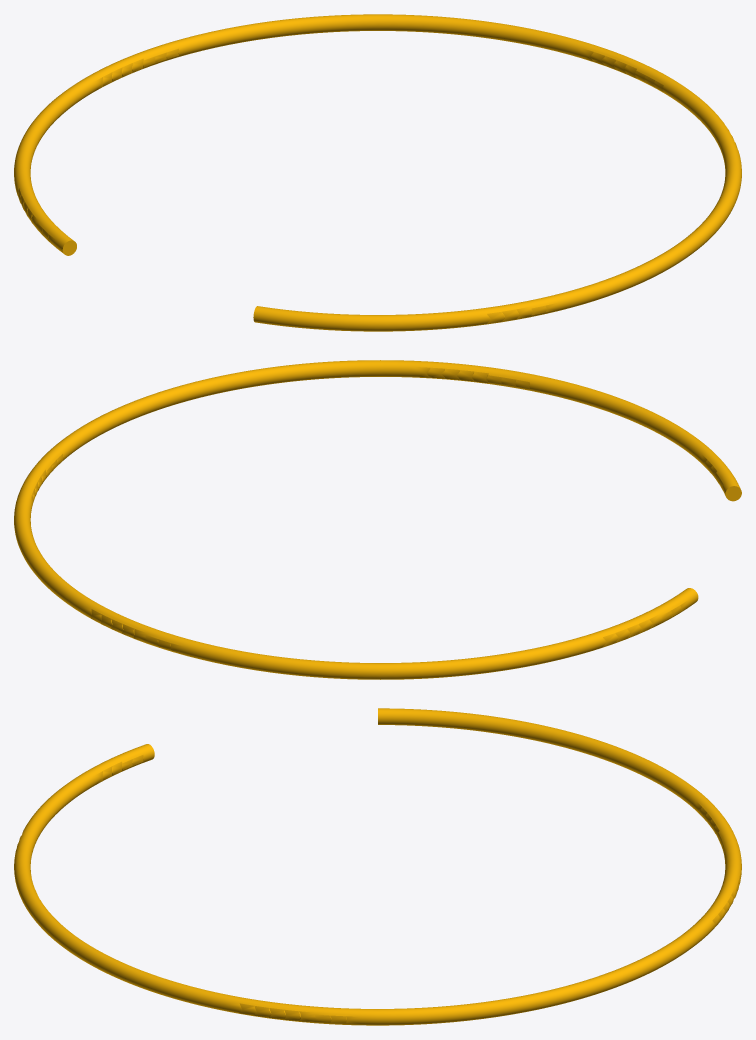
Rendered from Exc_Ball_Bearing_1611_0514_4008_2.obj.
3 renders of one model, top to bottom at view 1: azimuth 30°, elevation 25°; view 2: azimuth 150°, elevation 25°; view 3: azimuth 270°, elevation 25°, orthographic.
Visible parts, largest first — view 1: mesh28536; view 2: mesh28536; view 3: mesh28536.
Part boxes in pixels (x1,y1,x2,y2): mesh28536: (14, 14, 741, 331); mesh28536: (14, 360, 741, 679); mesh28536: (14, 708, 741, 1025).
Size of the model in its own units: 0.0131 by 0.000298 by 0.0131.
